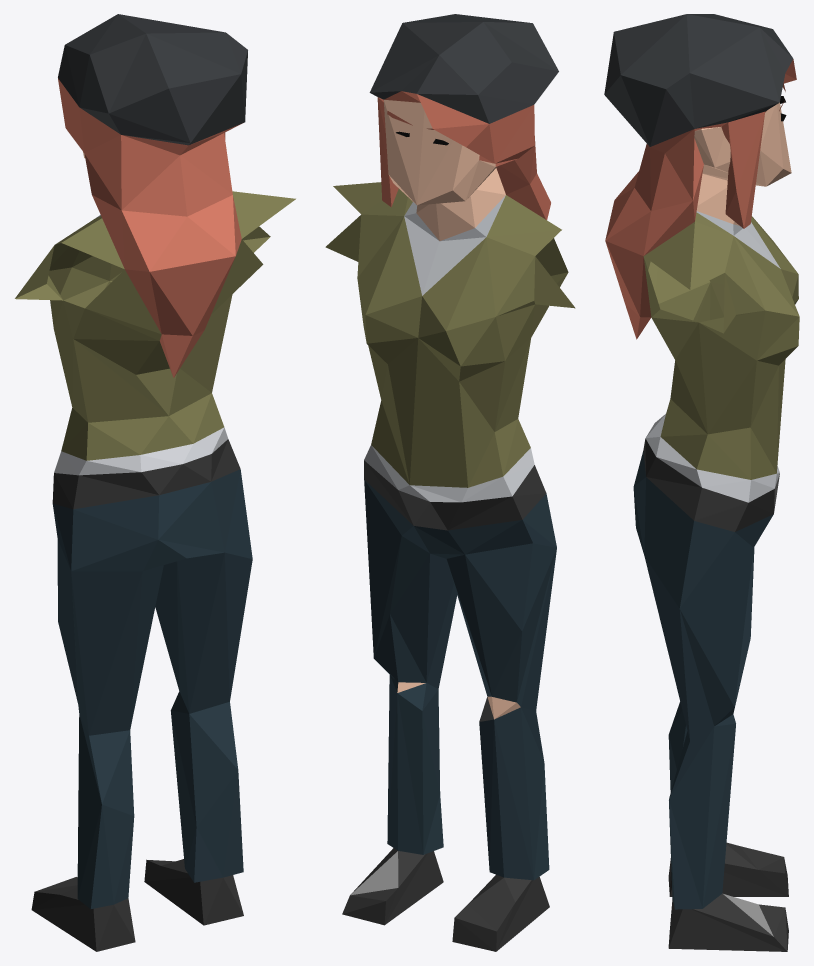
The model's file is Body_Lo.obj.
3 views of the same model, side by side, from view 1: azimuth 30°, elevation 25°; view 2: azimuth 150°, elevation 25°; view 3: azimuth 270°, elevation 25° (orthographic). The views are drawn at different scales.
Bounding box in the file's own units: 0.5691 × 1.84 × 0.3655.
1 material, 1 textured.
